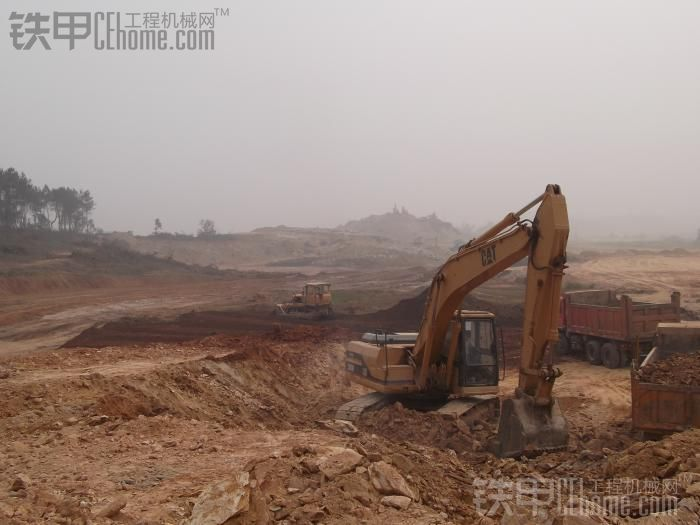excavator: (332, 181, 592, 463)
